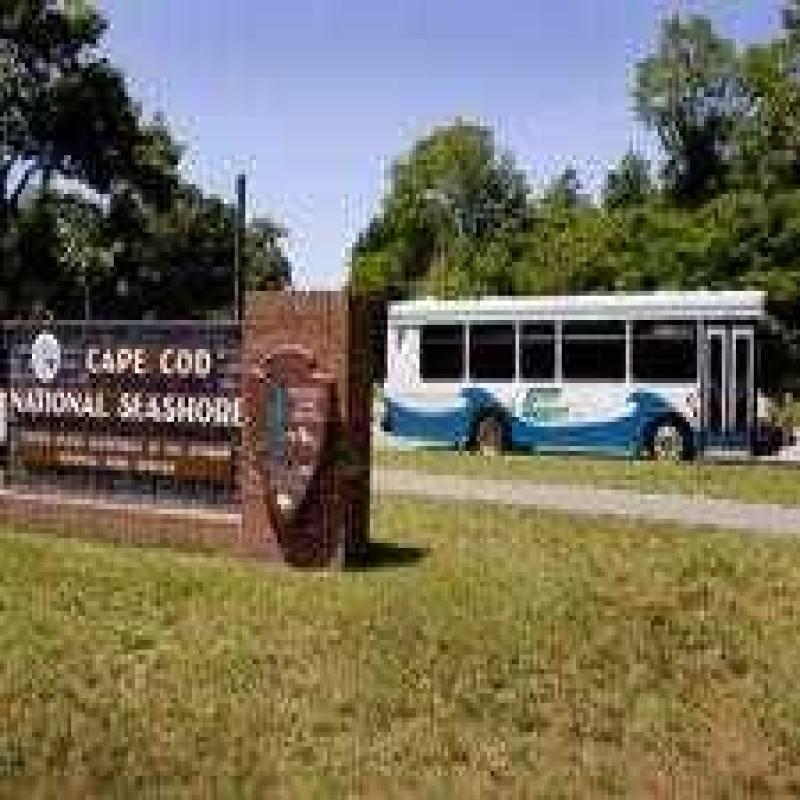bus: (384, 279, 782, 503)
